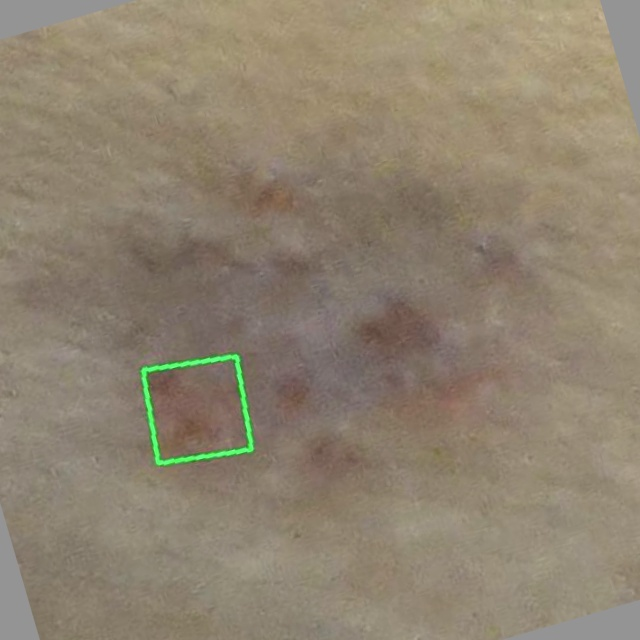Tinea Corporis: (142, 356, 250, 464)
